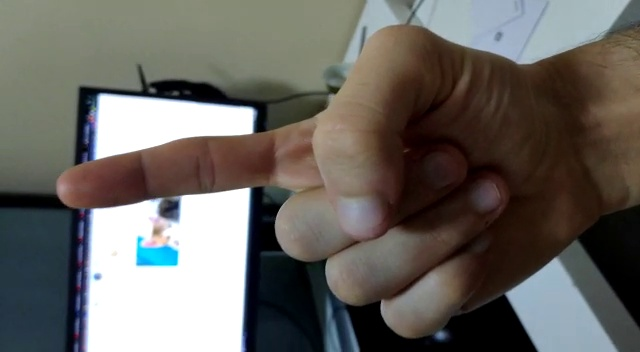One: (41, 13, 608, 344)
